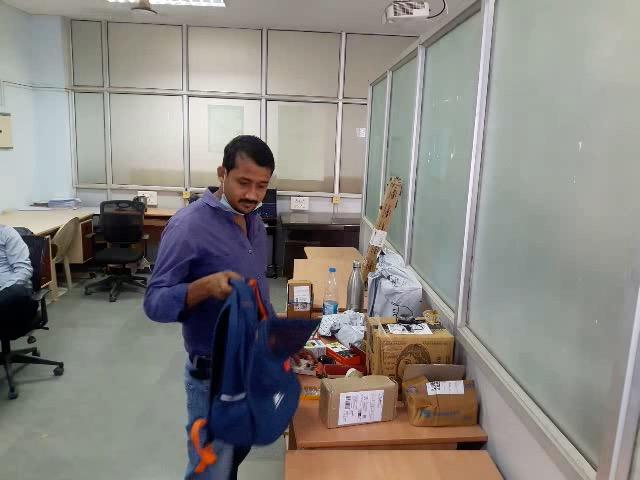shoplifting: (132, 251, 354, 404)
